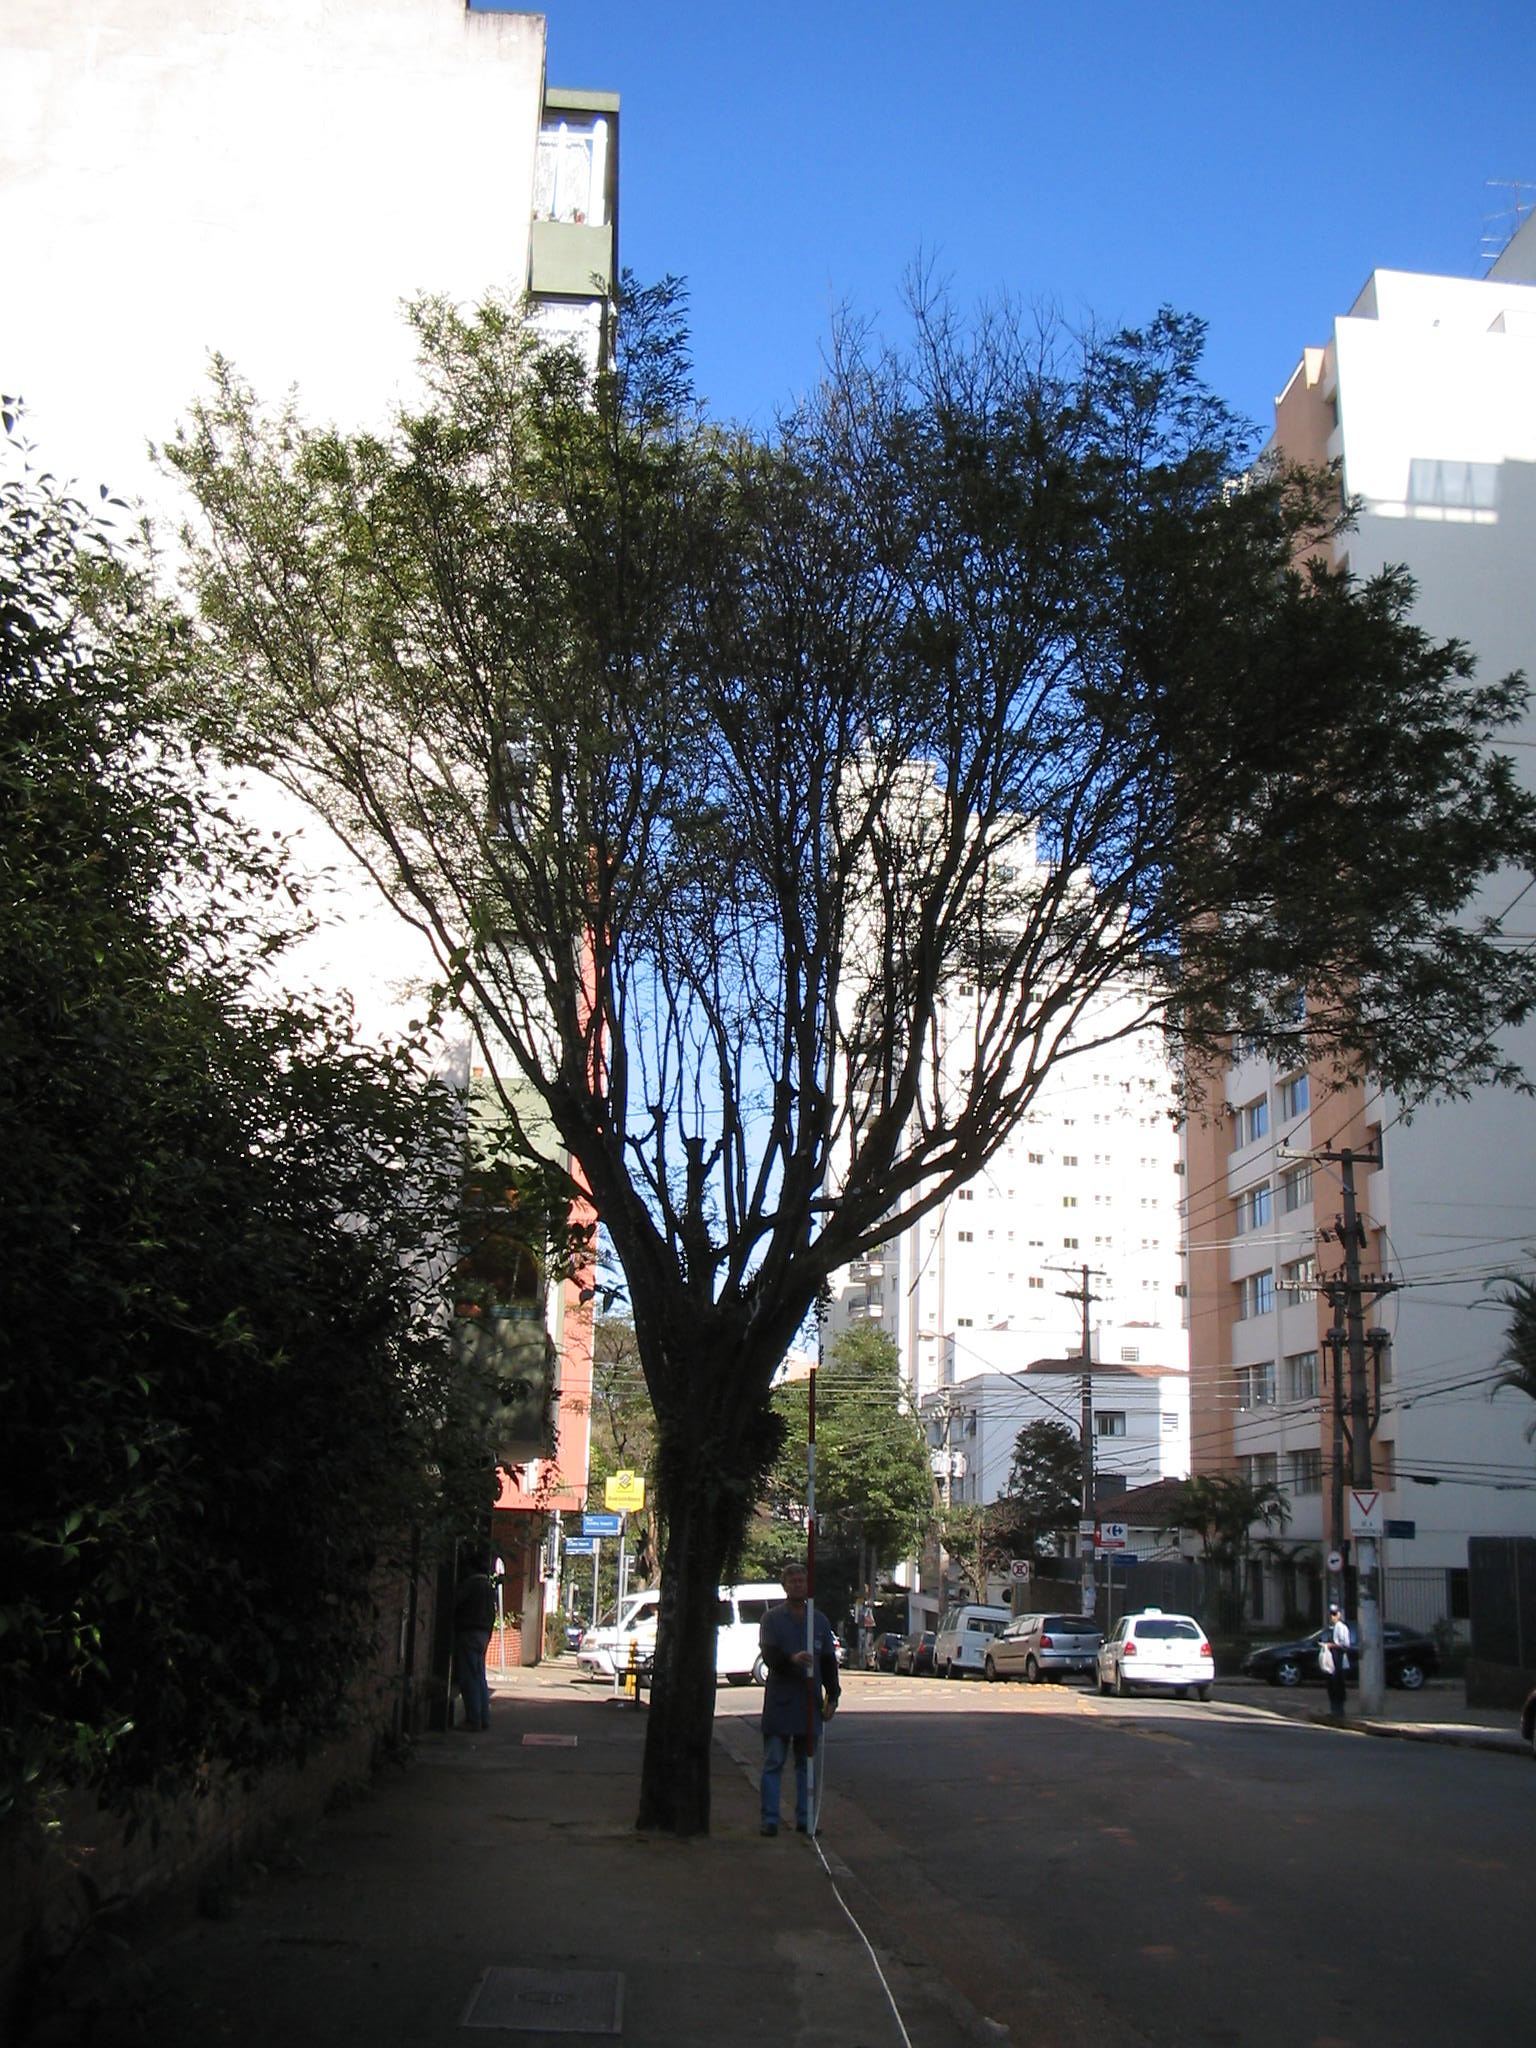crown: (89, 292, 1533, 1140)
stem: (620, 1350, 787, 1837)
stick: (766, 1366, 850, 1843)
tree: (81, 284, 1533, 1840)
